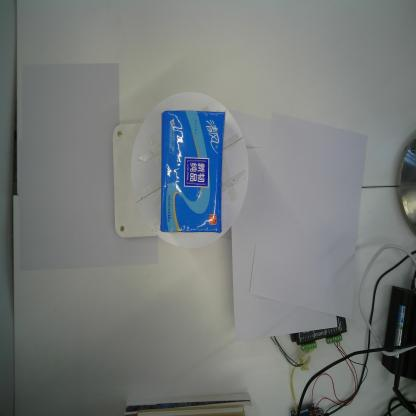Tissue: (160, 110, 225, 233)
